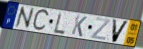C: (31, 8, 50, 33)
K: (70, 14, 88, 38)
L: (53, 11, 66, 35)
N: (14, 5, 35, 30)
V: (111, 18, 130, 44)
Z: (90, 17, 112, 42)
